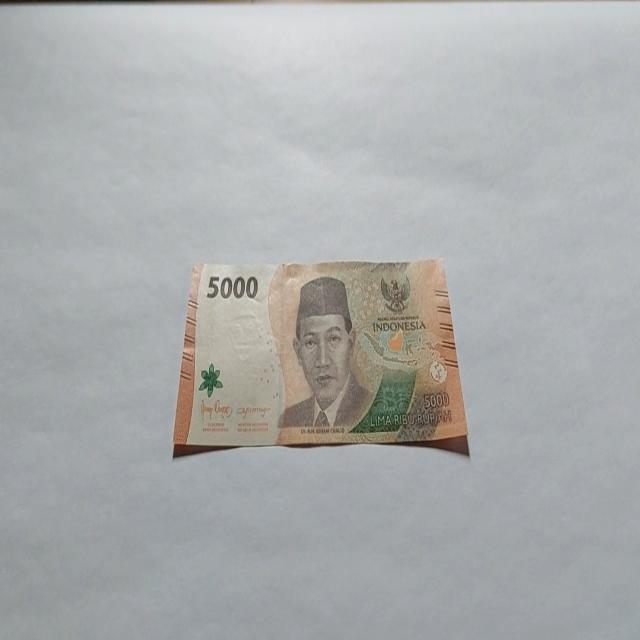lima ribu rupiah: (172, 256, 470, 459), (276, 274, 374, 432)
